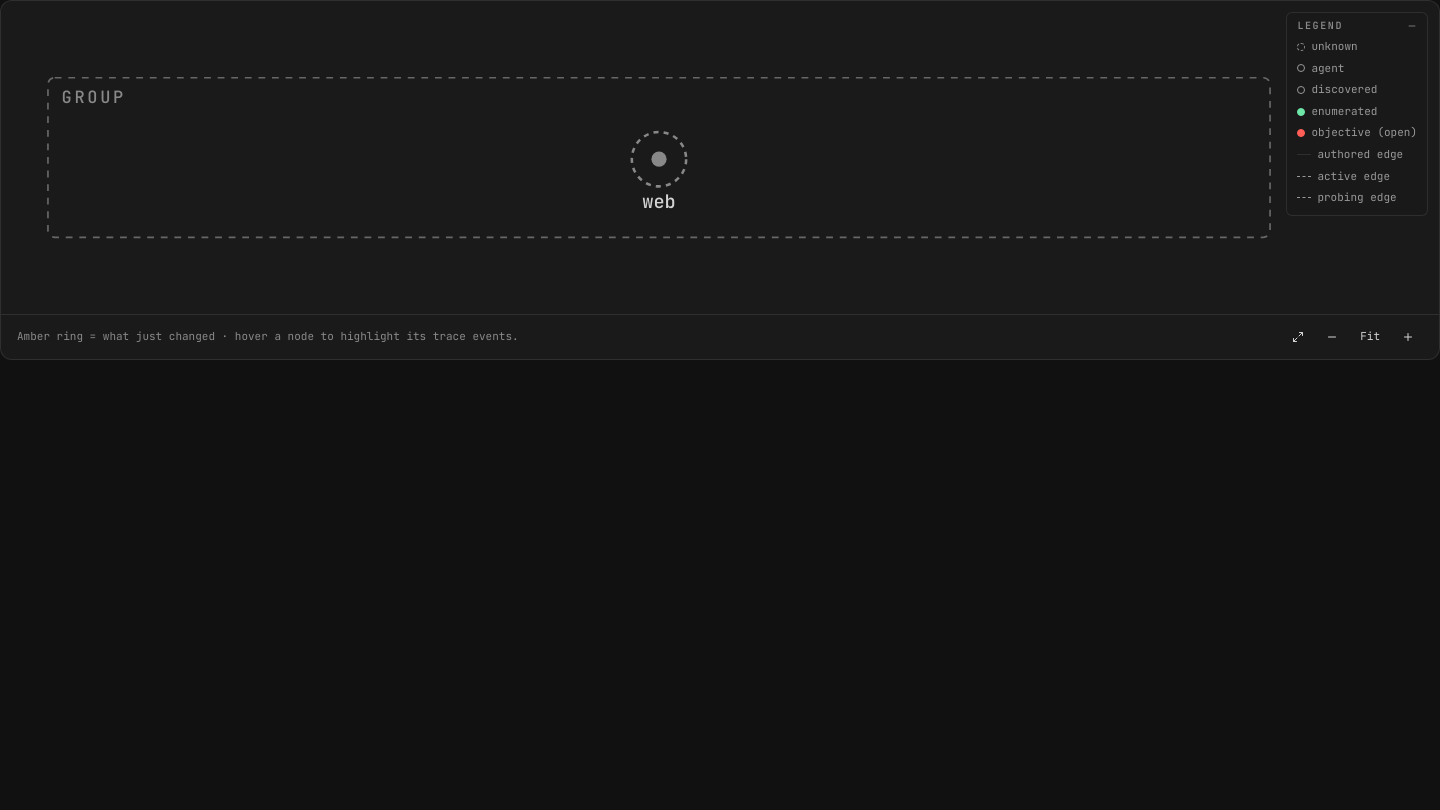
it: TerrainMap › fullscreen toggle (expandable) › expands into a modal overlay, and the toggle collapses it again
Expected: the text "web" is shown, [642, 189, 676, 214]
What coordinates should you click on to do the following:
click the button named "fullscreen"
I would click on:
 (1298, 337)
Its box is [1283, 323, 1313, 351].
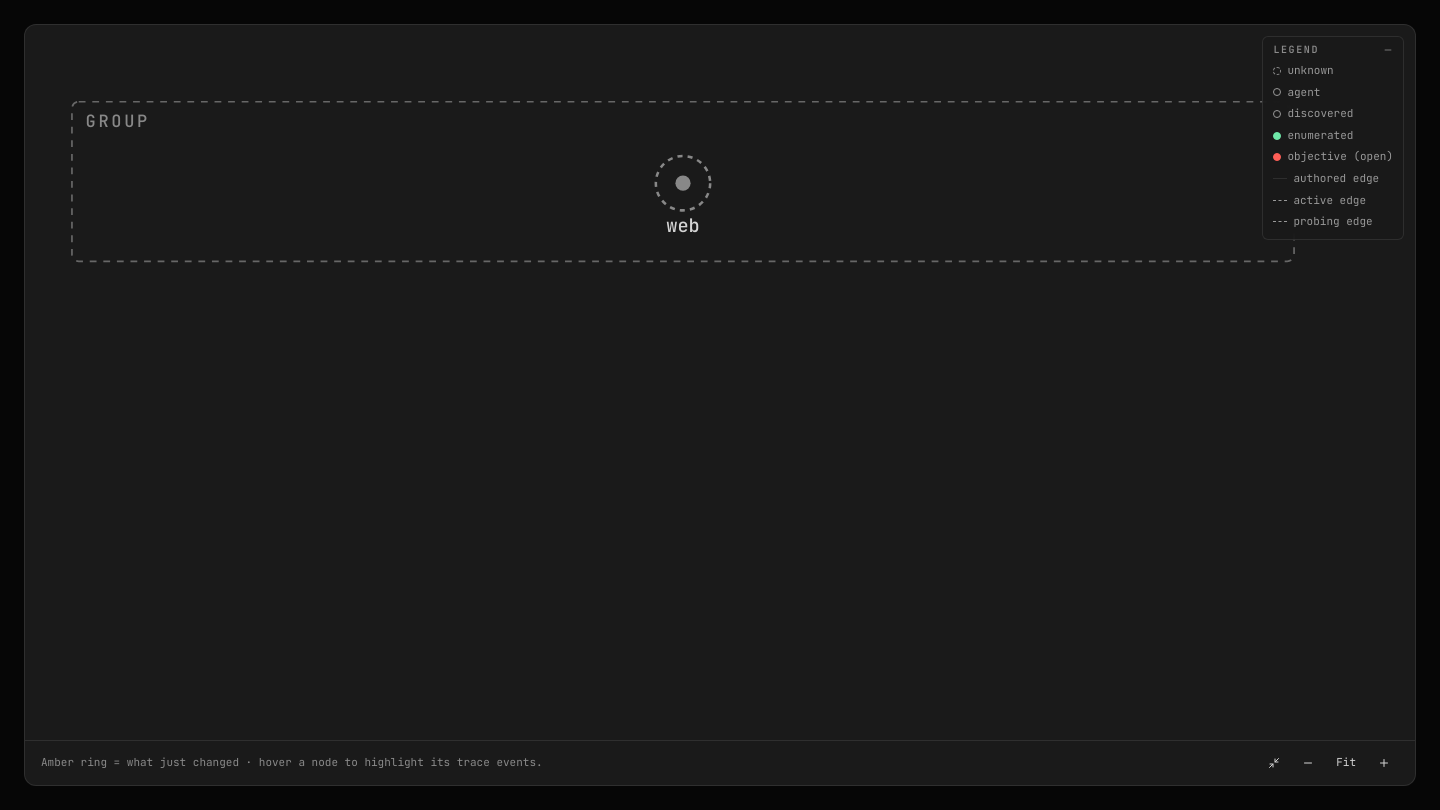
Expected: the number of pictures with test id "terrain-svg" is 1, [38, 68, 1328, 295]
What coordinates should you click on to do the following:
click the button named "exit fullscreen"
I would click on:
 (1274, 763)
Its box is [1259, 749, 1289, 777].
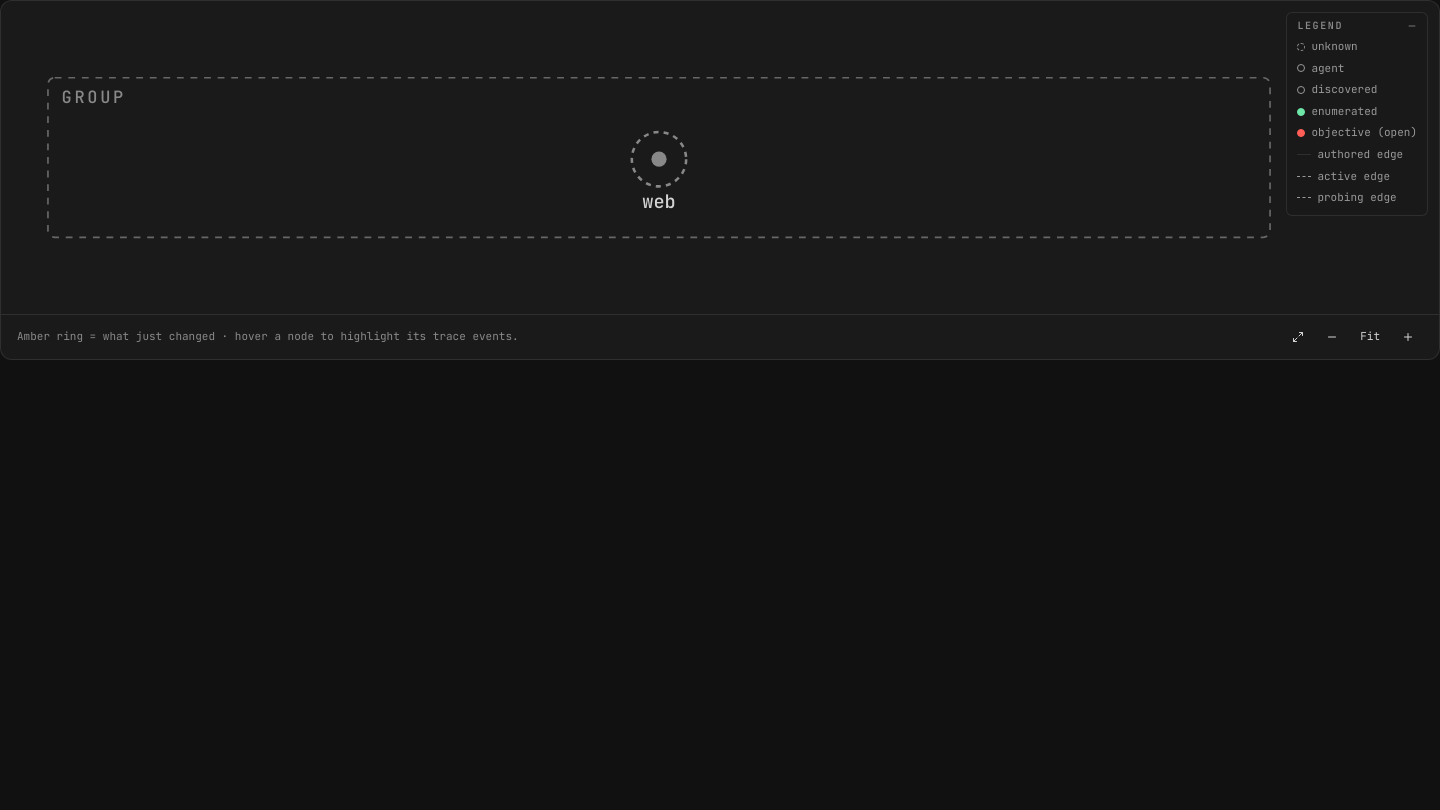
Result: the dialog is gone
